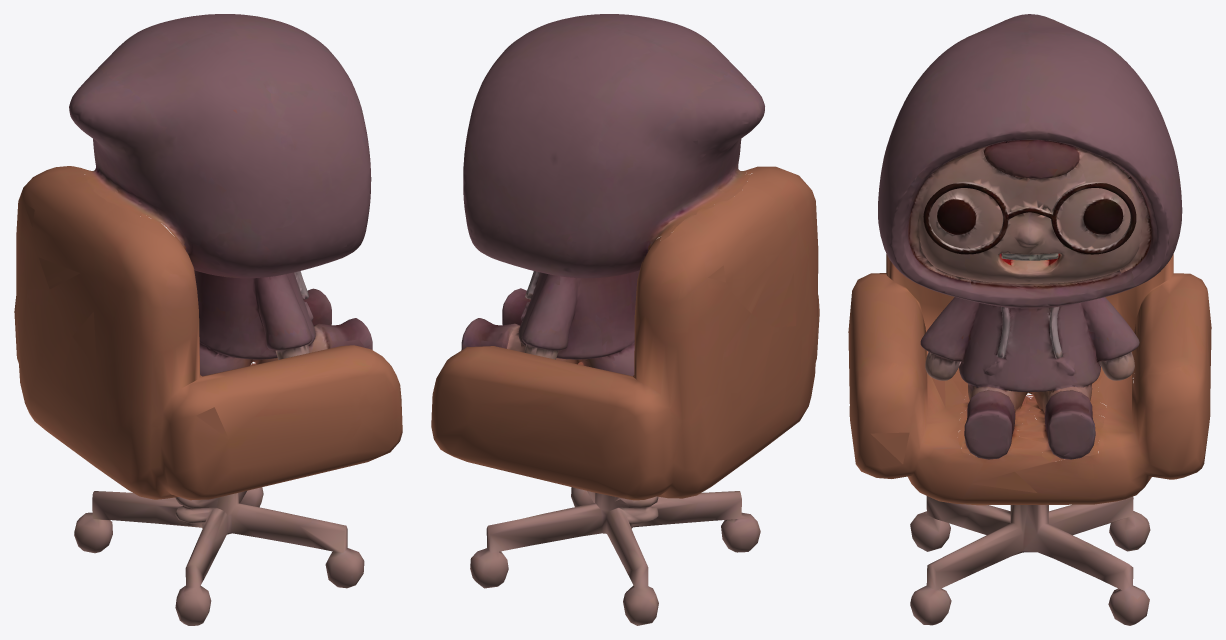
File: char_opt.glb
3 views of the same model, side by side, from view 1: azimuth 30°, elevation 25°; view 2: azimuth 150°, elevation 25°; view 3: azimuth 270°, elevation 25° (orthographic).
Parts seen in each view (by area): view 1: tripo_node_be8b1f2e-3c76-4417-953a-d03b2ec55c61.001, tripo_node_be8b1f2e-3c76-4417-953a-d03b2ec55c61; view 2: tripo_node_be8b1f2e-3c76-4417-953a-d03b2ec55c61.001, tripo_node_be8b1f2e-3c76-4417-953a-d03b2ec55c61; view 3: tripo_node_be8b1f2e-3c76-4417-953a-d03b2ec55c61, tripo_node_be8b1f2e-3c76-4417-953a-d03b2ec55c61.001.
Part boxes in pixels (left/top/right/bottom): tripo_node_be8b1f2e-3c76-4417-953a-d03b2ec55c61.001: left=14, top=166, right=402, bottom=625; tripo_node_be8b1f2e-3c76-4417-953a-d03b2ec55c61: left=69, top=14, right=372, bottom=376; tripo_node_be8b1f2e-3c76-4417-953a-d03b2ec55c61.001: left=431, top=166, right=819, bottom=625; tripo_node_be8b1f2e-3c76-4417-953a-d03b2ec55c61: left=461, top=14, right=764, bottom=376; tripo_node_be8b1f2e-3c76-4417-953a-d03b2ec55c61: left=878, top=14, right=1182, bottom=461; tripo_node_be8b1f2e-3c76-4417-953a-d03b2ec55c61.001: left=848, top=254, right=1211, bottom=625.
Bounding box in the file's own units: 0.5377 × 1 × 0.6109.
Materials: 1 (1 with a texture image).
